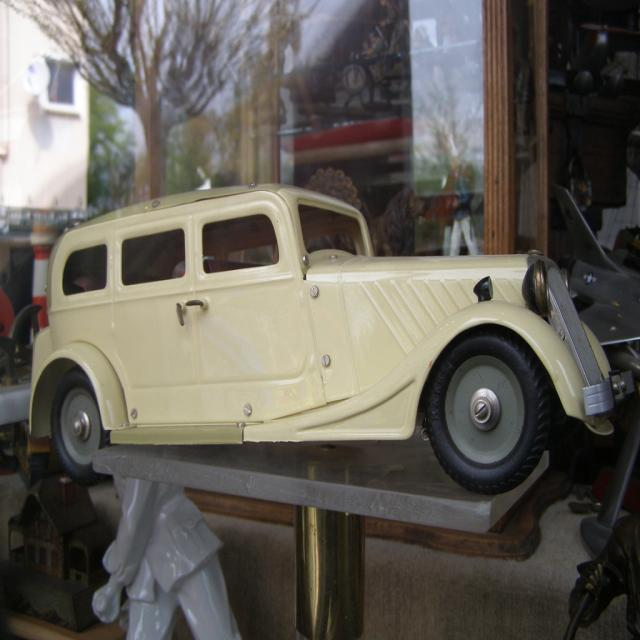car: (26, 178, 615, 491)
